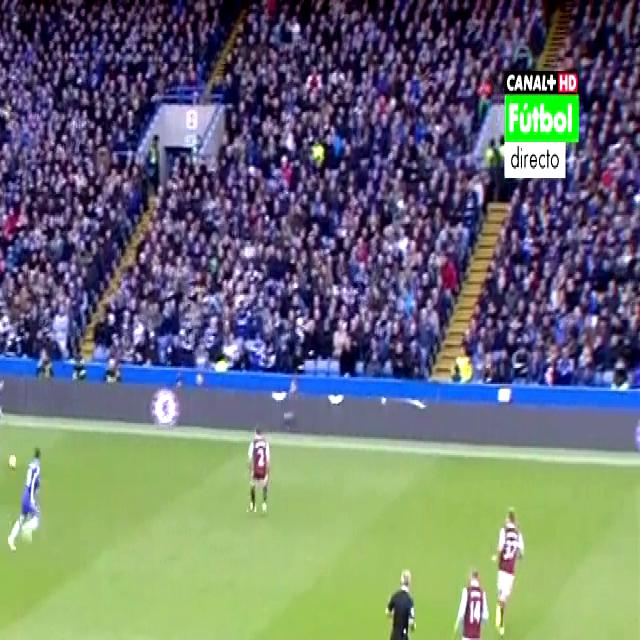referee: (369, 560, 417, 640)
soccer-player: (488, 496, 528, 635), (8, 438, 48, 556), (447, 562, 489, 640), (243, 422, 272, 523), (0, 381, 4, 506)
